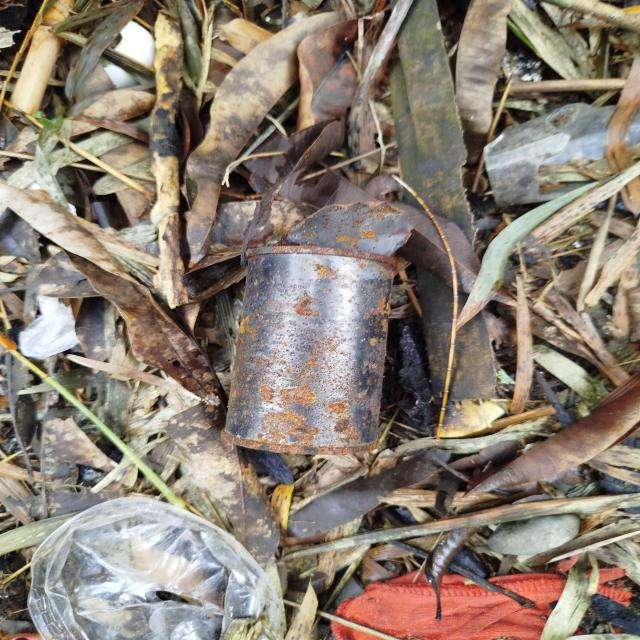metal: (190, 228, 451, 463)
